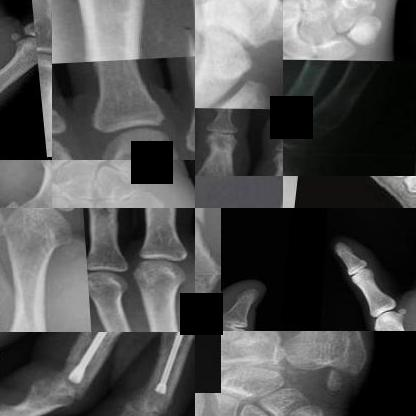fracture: (55, 332, 136, 390), (138, 332, 194, 404), (166, 20, 194, 59), (195, 298, 221, 331), (175, 289, 194, 332), (122, 196, 170, 207), (53, 318, 90, 331), (0, 197, 48, 207)
